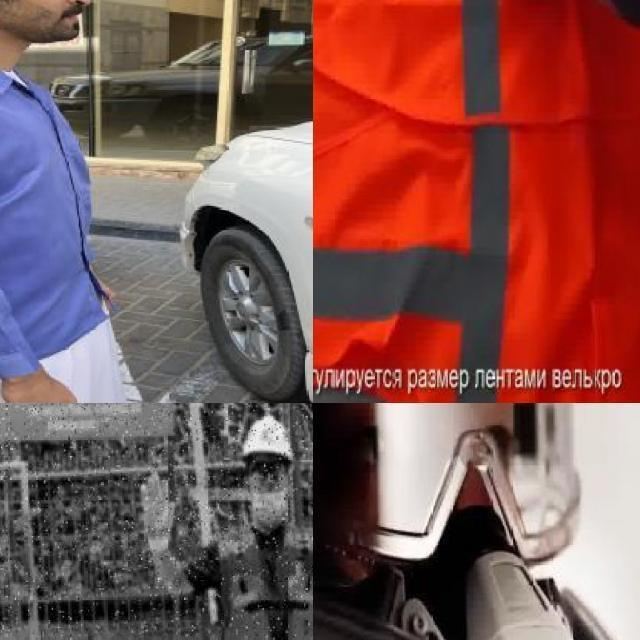apron: (140, 472, 176, 554)
